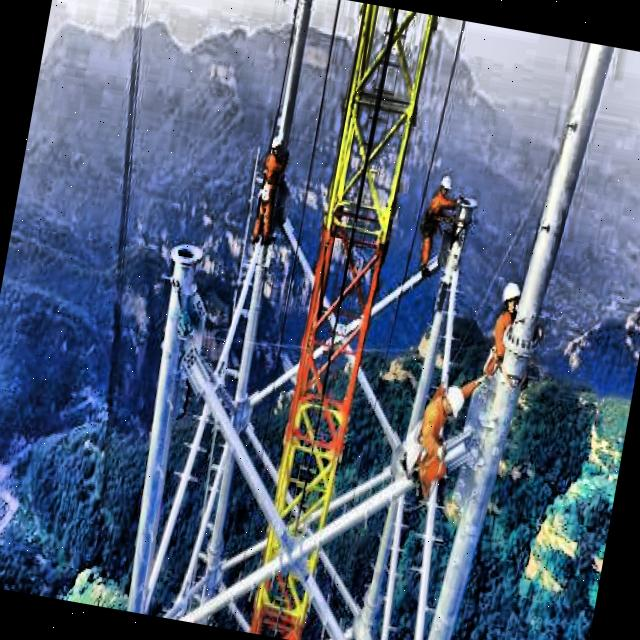helmet: (434, 377, 469, 422), (498, 278, 524, 320), (434, 170, 456, 205), (267, 132, 285, 161)
